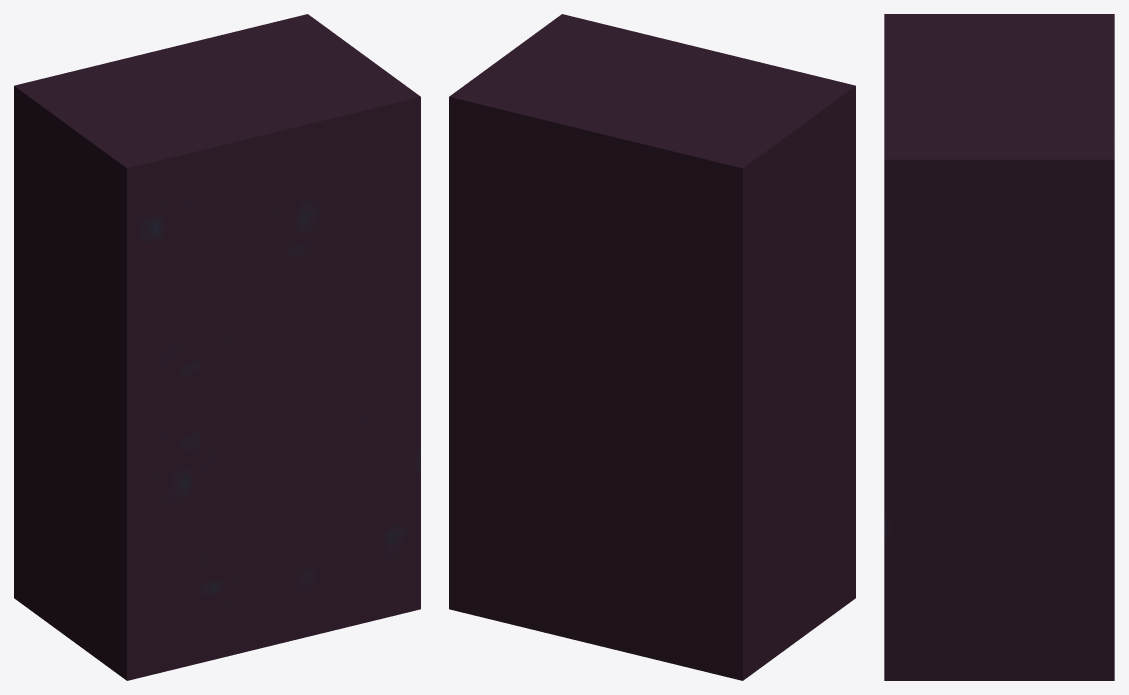
The model's file is BuildingModule_P_00.fbx.
3 renders of one model, left to right at view 1: azimuth 30°, elevation 25°; view 2: azimuth 150°, elevation 25°; view 3: azimuth 270°, elevation 25°, orthographic.
Parts seen in each view (by area): view 1: BuildingModule_P_00; view 2: BuildingModule_P_00; view 3: BuildingModule_P_00.
Part boxes in pixels (bbox=[...]): BuildingModule_P_00: bbox=[14, 14, 420, 680]; BuildingModule_P_00: bbox=[449, 14, 855, 680]; BuildingModule_P_00: bbox=[884, 14, 1114, 680].
Bounding box in the file's own units: 300 × 500 × 200.
